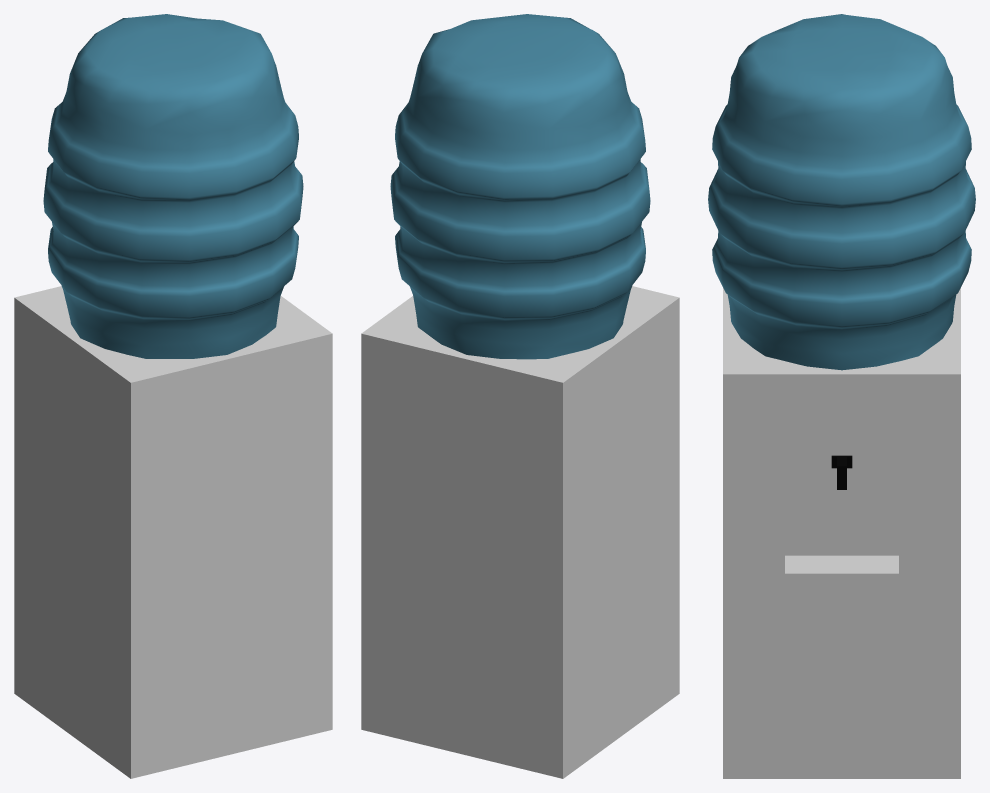
The model's file is watercooler_round.fbx.
3 views of the same model, side by side, from view 1: azimuth 30°, elevation 25°; view 2: azimuth 150°, elevation 25°; view 3: azimuth 270°, elevation 25° (orthographic). The views are drawn at different scales.
Parts seen in each view (by area): view 1: pCube4, pCube1; view 2: pCube4, pCube1; view 3: pCube4, pCube1, pCube5.
Boxes of the visible parts, bbox=[...] form: pCube4: bbox=[14, 286, 332, 778]; pCube1: bbox=[43, 14, 303, 358]; pCube4: bbox=[361, 286, 679, 778]; pCube1: bbox=[390, 14, 650, 359]; pCube4: bbox=[723, 288, 960, 778]; pCube1: bbox=[708, 14, 975, 370]; pCube5: bbox=[831, 455, 852, 489].
Size of the model in its own units: 0.8997 by 2.51 by 0.8997.
